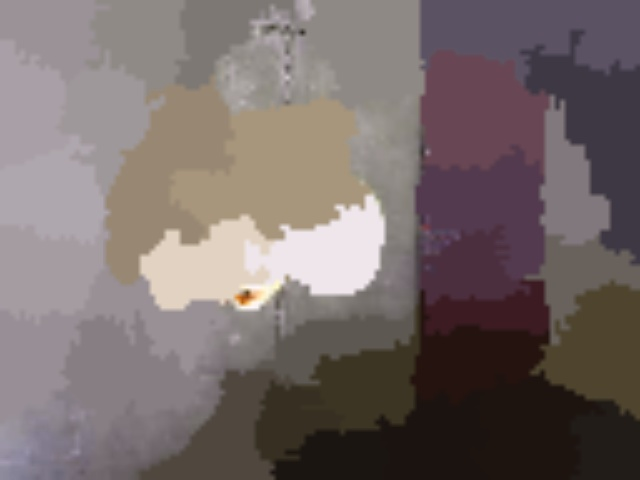eight: (286, 163, 337, 200)
